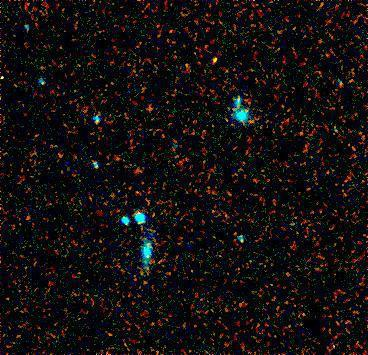star: (198, 50, 228, 80)
